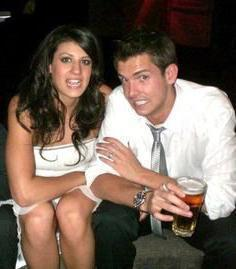Drunk: (115, 59, 163, 116), (54, 43, 92, 94)
